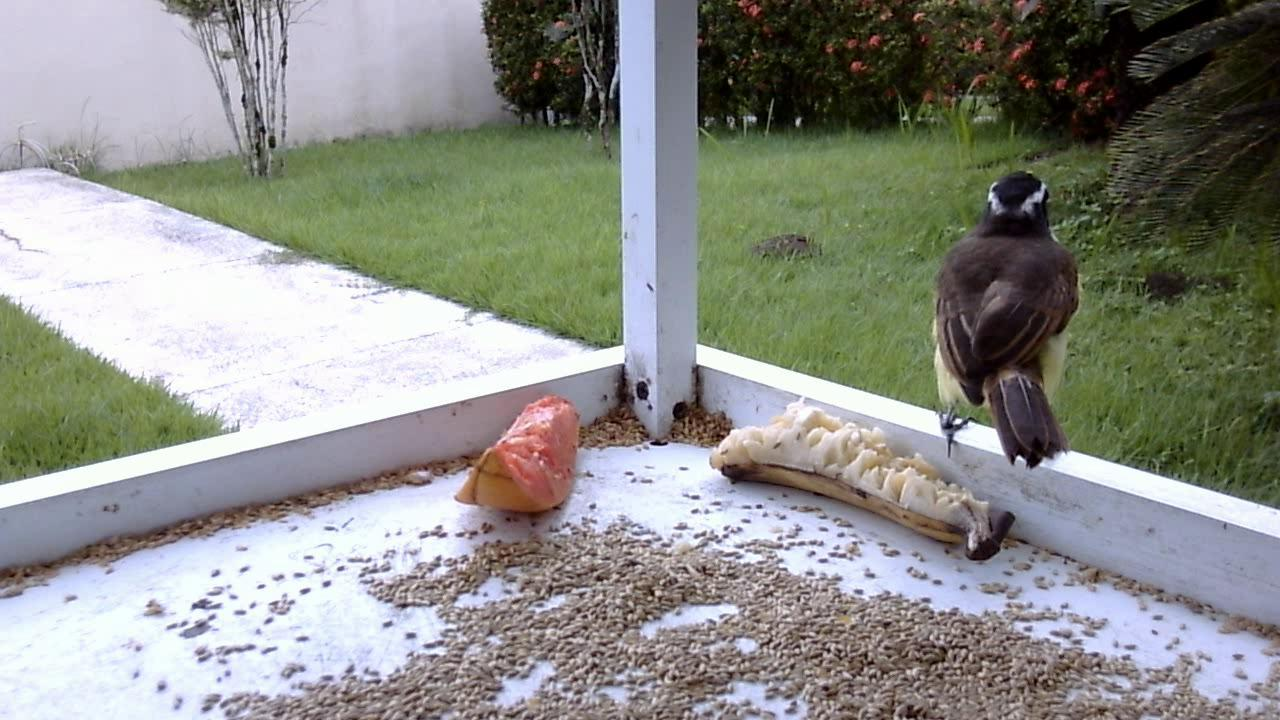bem_te_vi: (924, 165, 1085, 475)
